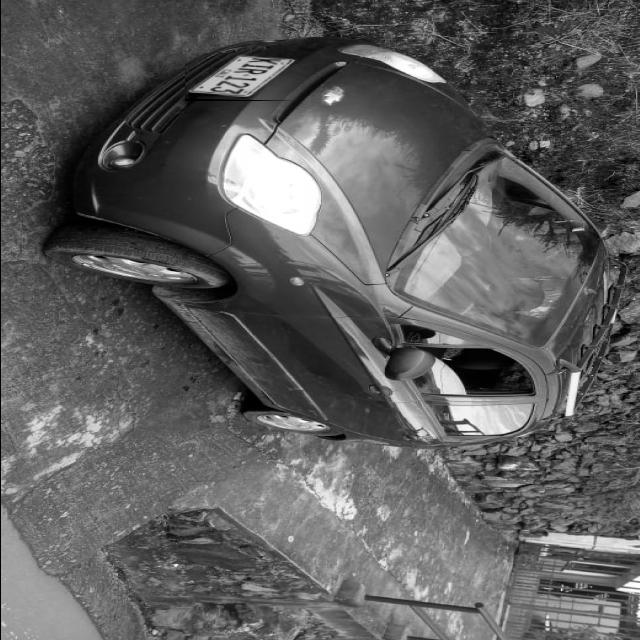plate: (184, 53, 297, 100)
